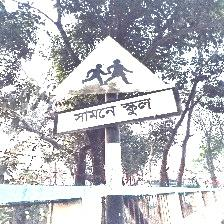School-in-front: (49, 35, 179, 135)
